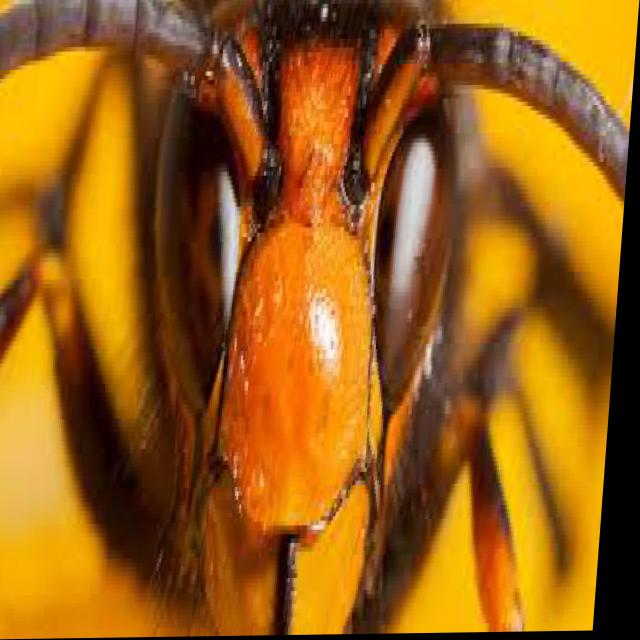Vespa Velutina: (0, 0, 638, 636)
